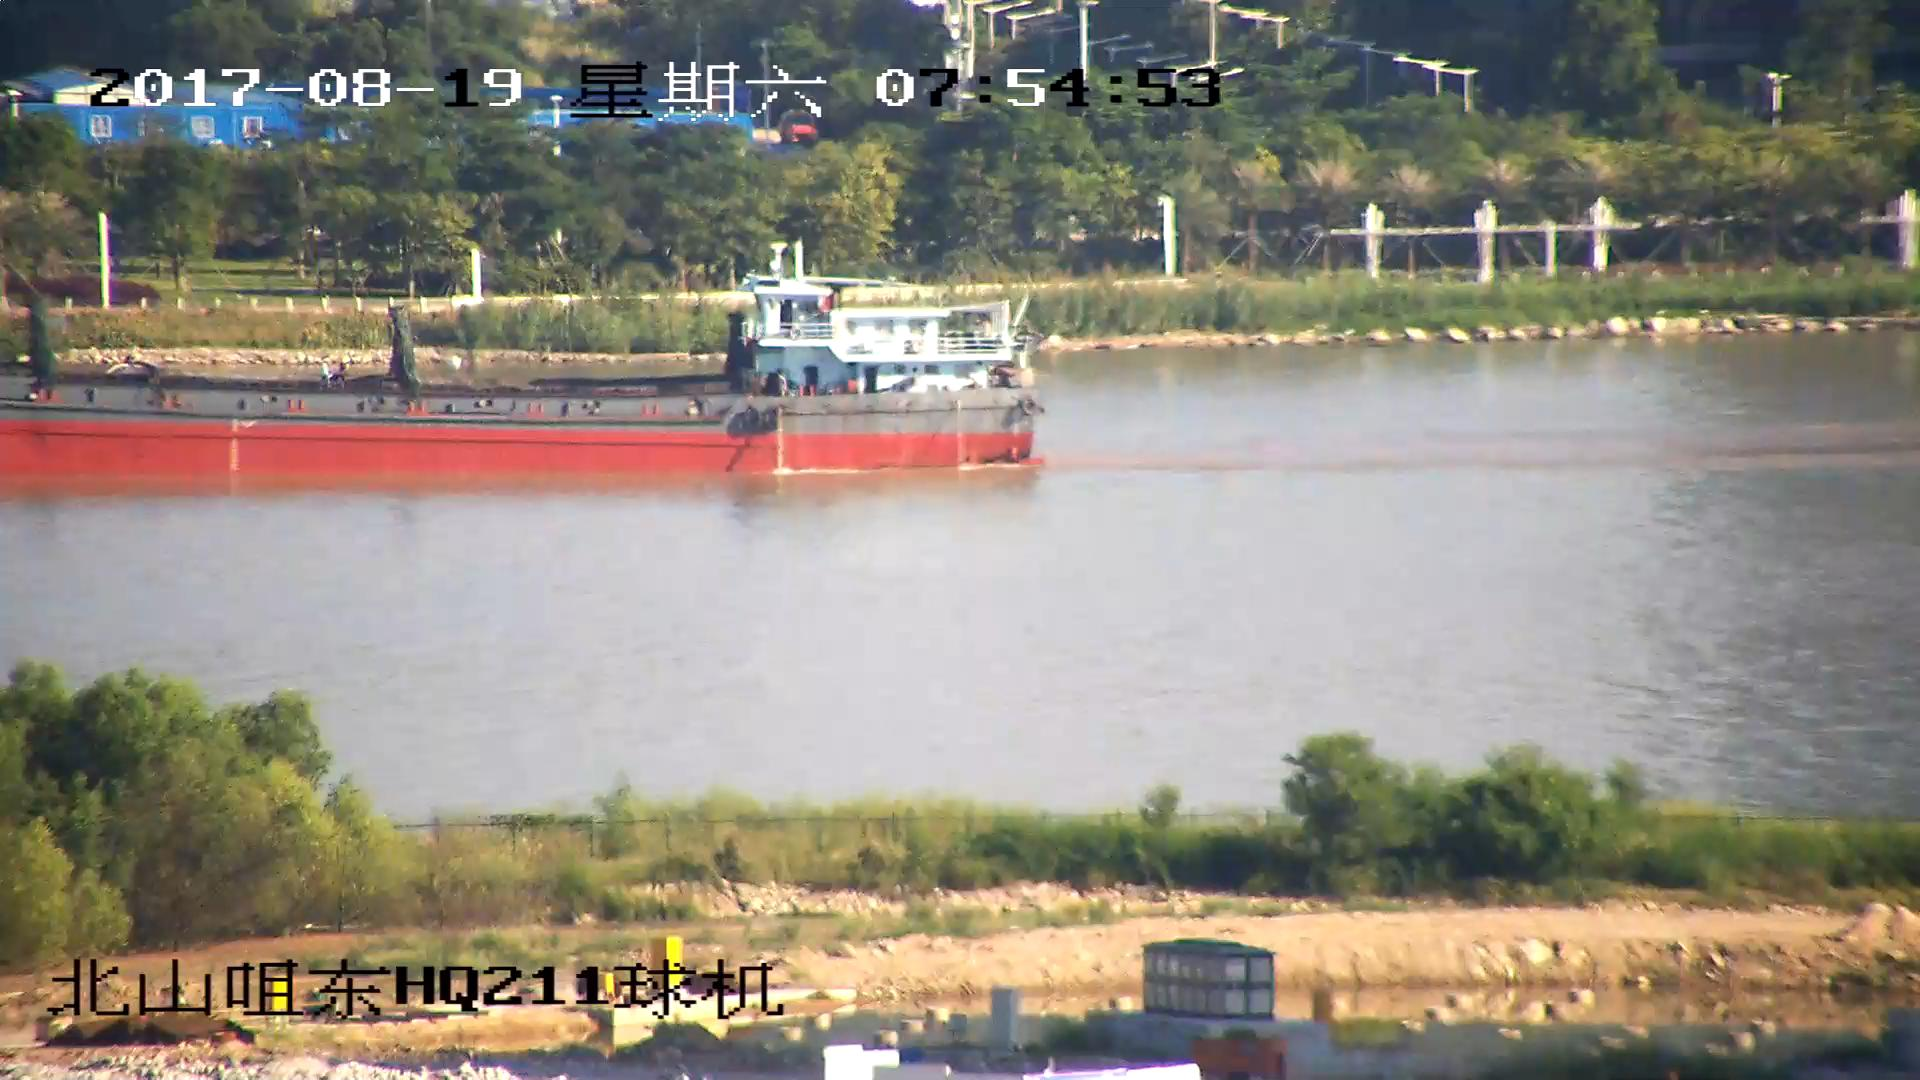bulk cargo carrier: (1, 270, 1049, 483)
